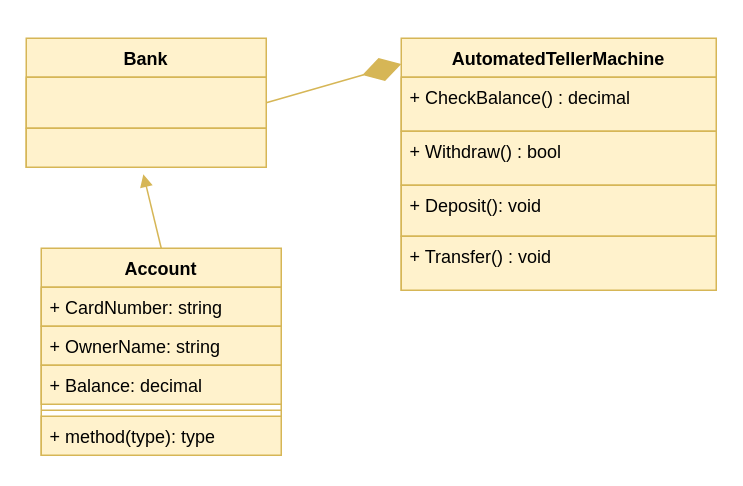
This 743x486 diagram has some shape labels left out. The shapes that lost their labels are listed below. From the top down, each one's centre as x and y in pixels, then its label:
At point 145,102: "+ Name : String".
At point 145,147: "+ ATMs: List".
